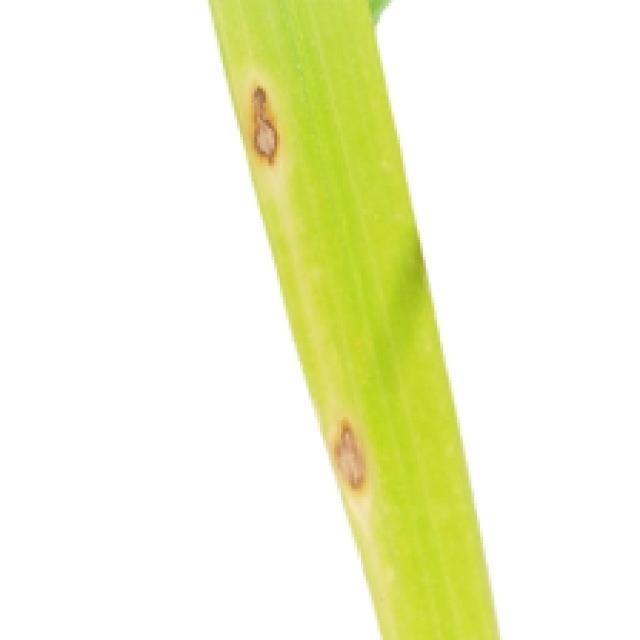Rice___Rice_Blast: (199, 0, 501, 637)
